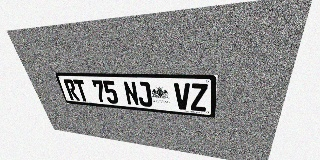5: (102, 80, 119, 104)
7: (91, 80, 108, 103)
J: (136, 81, 153, 107)
N: (123, 81, 140, 106)
R: (63, 79, 80, 101)
T: (73, 79, 90, 102)
V: (174, 83, 190, 110)
Z: (190, 83, 208, 112)
